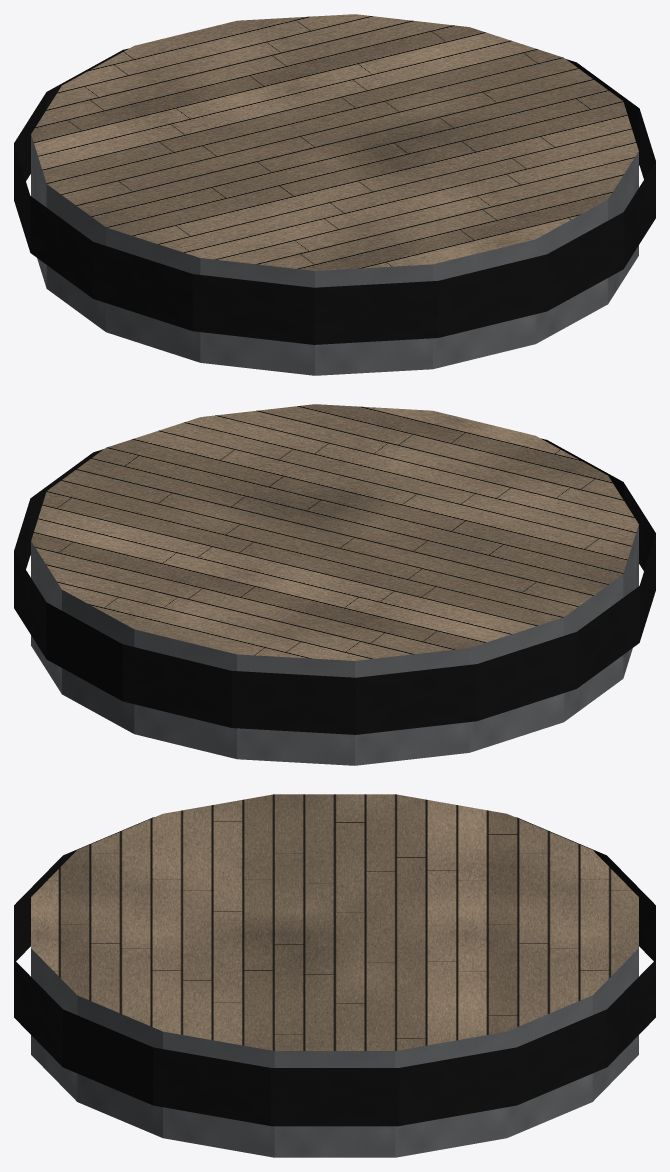
Rendered from SM_Morin_Marina_Raccordo_LOD1.fbx.
3 renders of one model, top to bottom at view 1: azimuth 30°, elevation 25°; view 2: azimuth 150°, elevation 25°; view 3: azimuth 270°, elevation 25°, orthographic.
Parts seen in each view (by area): view 1: SM_Morin_Marina_Raccordo_LOD1; view 2: SM_Morin_Marina_Raccordo_LOD1; view 3: SM_Morin_Marina_Raccordo_LOD1.
Boxes of the visible parts, <box> form: SM_Morin_Marina_Raccordo_LOD1: <box>14,14,655,375</box>; SM_Morin_Marina_Raccordo_LOD1: <box>14,404,655,765</box>; SM_Morin_Marina_Raccordo_LOD1: <box>14,794,655,1157</box>.
Bounding box in the file's own units: 300 × 300 × 55.
2 materials, 2 textured.
